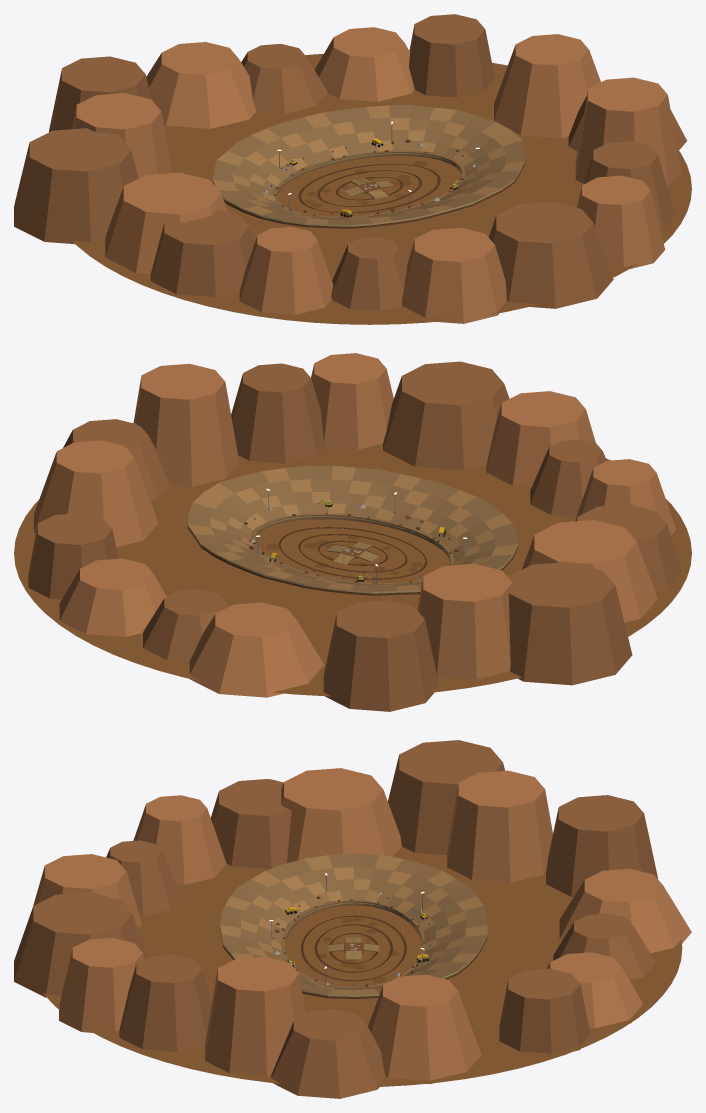
The model's file is arena_quarry.glb.
The picture shows the model from 3 angles, top to bottom: view 1: azimuth 30°, elevation 25°; view 2: azimuth 150°, elevation 25°; view 3: azimuth 270°, elevation 25°; orthographic projection. The views are drawn at different scales.
Visible parts, largest first — view 1: far_mesa, far_mesa2, ground_dirt, walls_rock1, walls_rock2, ground_track, walls_strata, walls_rock3, ground_dirt2; view 2: far_mesa, far_mesa2, ground_dirt, walls_rock1, walls_rock2, ground_track, walls_strata, walls_rock3, ground_dirt2; view 3: far_mesa, far_mesa2, ground_dirt, walls_rock1, walls_rock2, ground_track, ground_dirt2.
Part boxes in pixels (x1=…): far_mesa: x1=72, y1=27, x2=681, y2=323; far_mesa2: x1=14, y1=14, x2=686, y2=311; ground_dirt: x1=72, y1=54, x2=691, y2=324; walls_rock1: x1=213, y1=105, x2=525, y2=225; walls_rock2: x1=213, y1=105, x2=524, y2=224; ground_track: x1=298, y1=164, x2=440, y2=213; walls_strata: x1=213, y1=139, x2=525, y2=226; walls_rock3: x1=213, y1=140, x2=525, y2=228; ground_dirt2: x1=304, y1=161, x2=426, y2=207; far_mesa: x1=34, y1=353, x2=676, y2=697; far_mesa2: x1=28, y1=361, x2=681, y2=711; ground_dirt: x1=14, y1=443, x2=691, y2=696; walls_rock1: x1=188, y1=465, x2=517, y2=591; walls_rock2: x1=188, y1=465, x2=517, y2=590; ground_track: x1=279, y1=527, x2=426, y2=579; walls_strata: x1=187, y1=516, x2=518, y2=593; walls_rock3: x1=187, y1=513, x2=518, y2=595; ground_dirt2: x1=266, y1=535, x2=422, y2=574; far_mesa: x1=33, y1=768, x2=691, y2=1084; far_mesa2: x1=14, y1=740, x2=658, y2=1098; ground_dirt: x1=43, y1=846, x2=682, y2=1086; walls_rock1: x1=220, y1=853, x2=487, y2=994; walls_rock2: x1=220, y1=855, x2=487, y2=995; ground_track: x1=301, y1=915, x2=406, y2=981; ground_dirt2: x1=317, y1=917, x2=399, y2=982.
Bounding box in the file's own units: 429 × 54.94 × 413.
